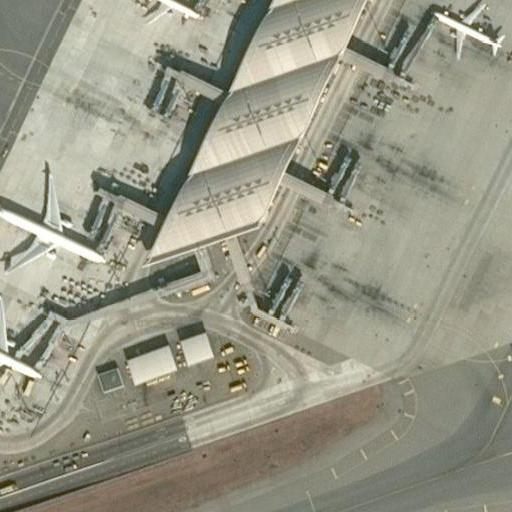Aircraft: (0, 163, 105, 274), (0, 283, 47, 392), (426, 0, 509, 61), (114, 0, 210, 30)
